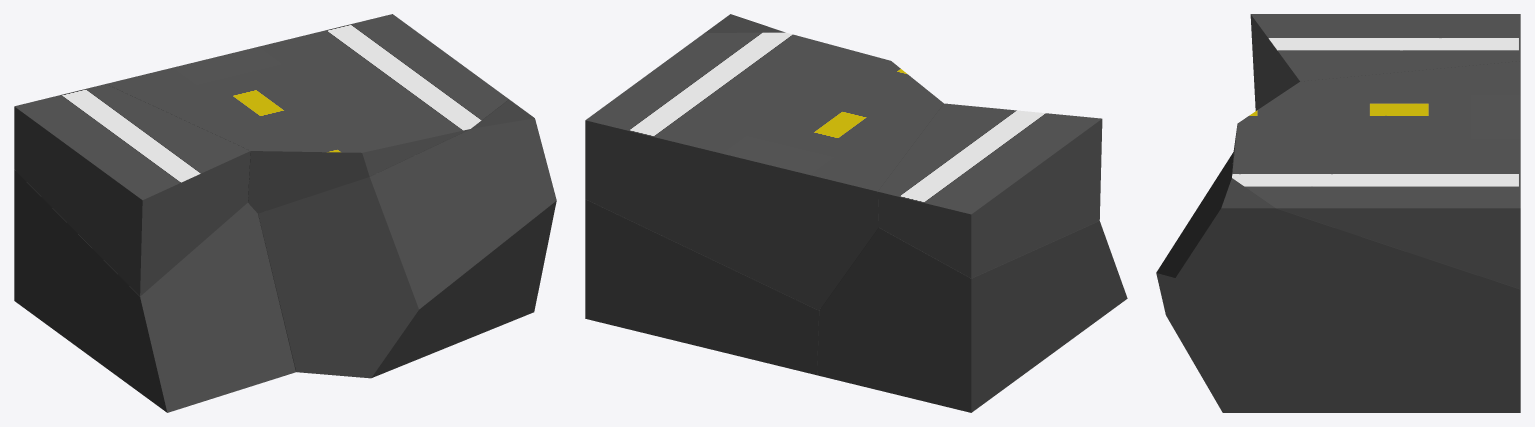
Rendered from duan.fbx.
3 renders of one model, left to right at view 1: azimuth 30°, elevation 25°; view 2: azimuth 150°, elevation 25°; view 3: azimuth 270°, elevation 25°, orthographic. The views are drawn at different scales.
Parts seen in each view (by area): view 1: Cube.001_cell.001; view 2: Cube.001_cell.001; view 3: Cube.001_cell.001.
Part boxes in pixels (left/top/right/bottom): Cube.001_cell.001: left=14, top=14, right=556, bottom=412; Cube.001_cell.001: left=585, top=14, right=1127, bottom=412; Cube.001_cell.001: left=1156, top=14, right=1520, bottom=412.
Bounding box in the file's own units: 498 × 245 × 395.
2 materials, 1 textured.
